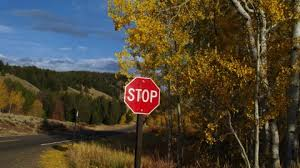Stop: (141, 64, 170, 129)
